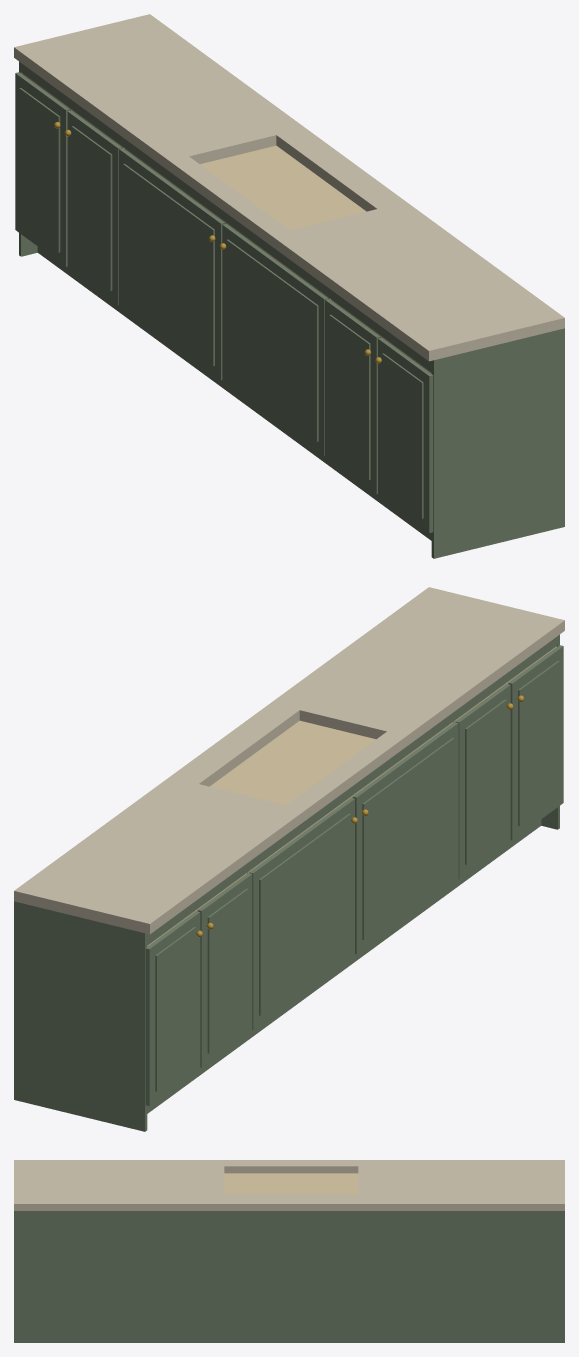
Rendered from counter-east.glb.
The picture shows the model from 3 angles, top to bottom: view 1: azimuth 30°, elevation 25°; view 2: azimuth 150°, elevation 25°; view 3: azimuth 270°, elevation 25°; orthographic projection. The views are drawn at different scales.
Parts seen in each view (by area): view 1: counter-east, cabinet-door-counter-east-3, cabinet-door-counter-east-4, cabinet-door-counter-east-6, cabinet-door-counter-east-5, cabinet-door-counter-east-1, cabinet-door-counter-east-2; view 2: counter-east, cabinet-door-counter-east-4, cabinet-door-counter-east-3, cabinet-door-counter-east-1, cabinet-door-counter-east-6, cabinet-door-counter-east-5, cabinet-door-counter-east-2; view 3: counter-east.
Boxes of the visible parts, x1,y1,x2,y2 form: counter-east: (14, 14, 564, 558); cabinet-door-counter-east-3: (119, 148, 224, 380); cabinet-door-counter-east-4: (219, 224, 328, 455); cabinet-door-counter-east-6: (375, 338, 433, 532); cabinet-door-counter-east-5: (325, 299, 380, 494); cabinet-door-counter-east-1: (15, 72, 69, 266); cabinet-door-counter-east-2: (65, 110, 122, 305); counter-east: (14, 587, 564, 1131); cabinet-door-counter-east-4: (352, 722, 458, 954); cabinet-door-counter-east-3: (249, 798, 357, 1029); cabinet-door-counter-east-1: (145, 911, 202, 1105); cabinet-door-counter-east-6: (508, 645, 563, 840); cabinet-door-counter-east-5: (455, 684, 513, 879); cabinet-door-counter-east-2: (197, 873, 252, 1067); counter-east: (14, 1160, 564, 1342).
Bounding box in the file's own units: 2.13 × 3 × 10.8.
